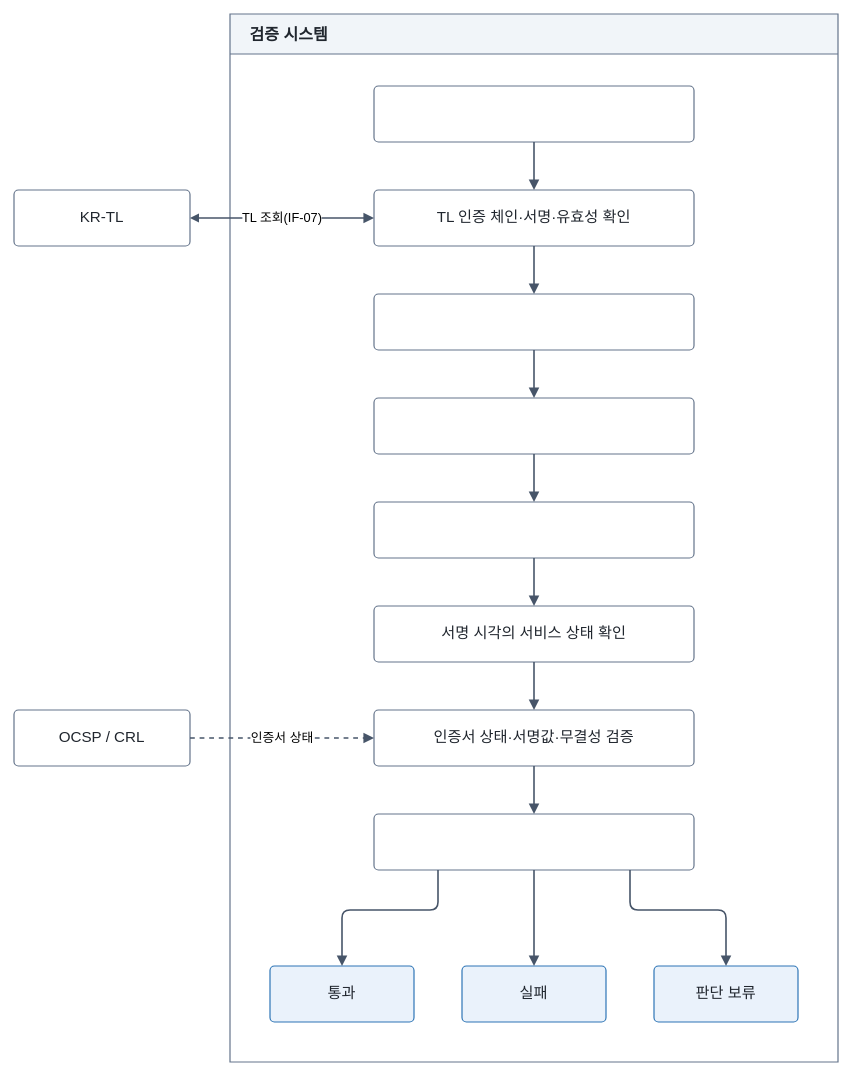
The diagram is 853 pixels wide and 1077 high, and some of its shapes have lost their labels. Here are the shapes that lost their labels. From the top down, the centre of each, then its label:
At (x=533, y=113): "서명 검증 요청(IF-08)".
At (x=533, y=321): "서명자 인증 체인 구성·검증".
At (x=533, y=425): "TL 등재 신뢰점 대조".
At (x=533, y=529): "서명 시각 확인".
At (x=533, y=841): "검증 결과 종합".
